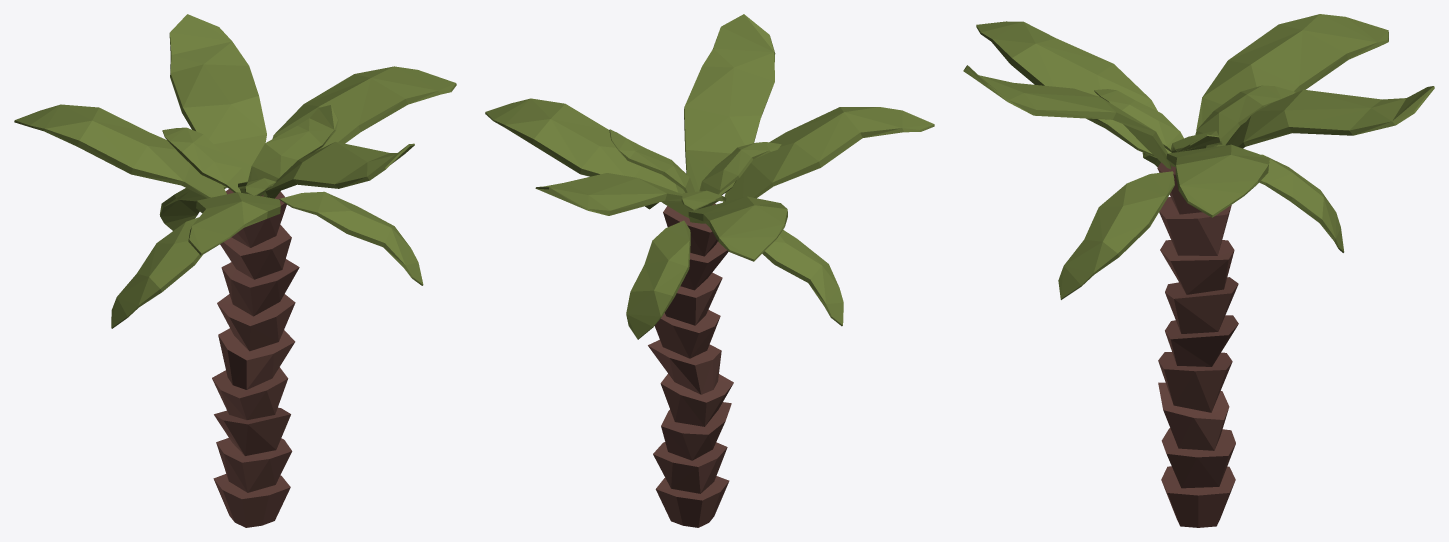
Rendered from Palm_1.fbx.
3 views of the same model, side by side, from view 1: azimuth 30°, elevation 25°; view 2: azimuth 150°, elevation 25°; view 3: azimuth 270°, elevation 25° (orthographic). The views are drawn at different scales.
Parts seen in each view (by area): view 1: Palm_1; view 2: Palm_1; view 3: Palm_1.
Part boxes in pixels (<box>): Palm_1: <box>14,14,456,527</box>; Palm_1: <box>485,14,934,527</box>; Palm_1: <box>963,14,1434,527</box>.
Bounding box in the file's own units: 2991 × 3425 × 3042.
